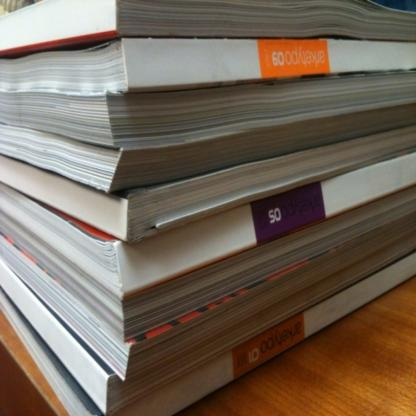book: (0, 226, 415, 376), (0, 265, 415, 415), (0, 182, 415, 297), (0, 164, 415, 243), (0, 82, 415, 153), (0, 133, 415, 194), (0, 36, 415, 93), (0, 0, 415, 55)
